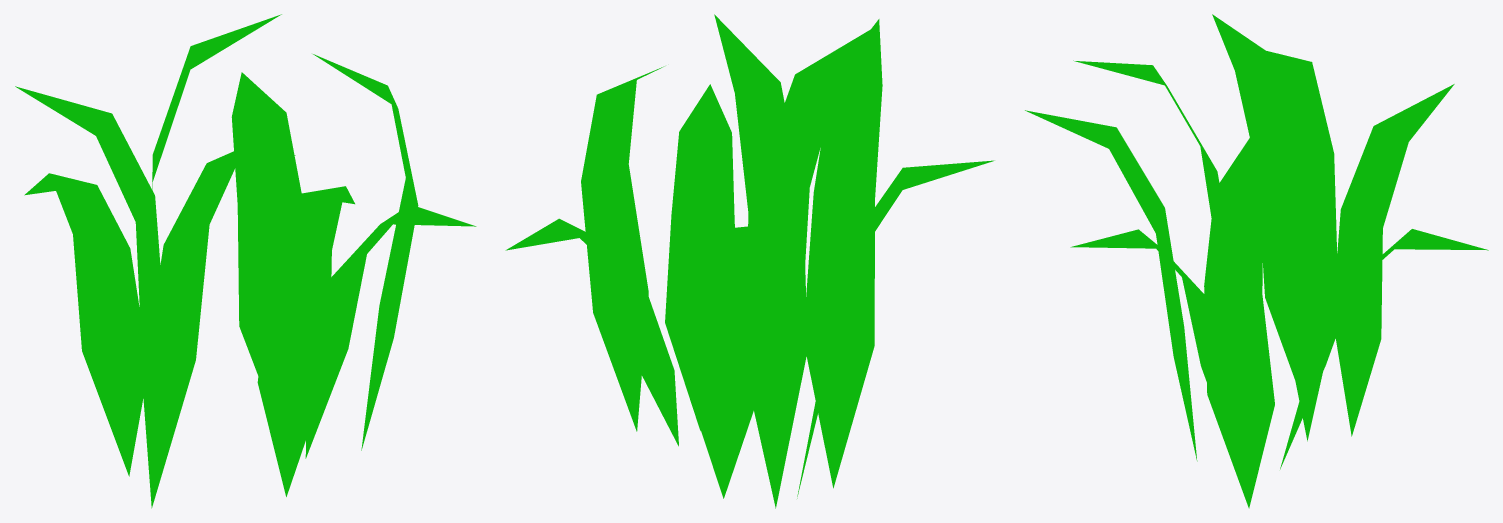
The model's file is grass blades.obj.
3 renders of one model, left to right at view 1: azimuth 30°, elevation 25°; view 2: azimuth 150°, elevation 25°; view 3: azimuth 270°, elevation 25°, orthographic. The views are drawn at different scales.
Parts seen in each view (by area): view 1: grass_blades; view 2: grass_blades; view 3: grass_blades.
Part boxes in pixels (<box>): grass_blades: <box>15,14,476,508</box>; grass_blades: <box>505,14,994,508</box>; grass_blades: <box>1025,14,1488,508</box>.
Bounding box in the file's own units: 0.7985 × 0.8816 × 0.8462.
